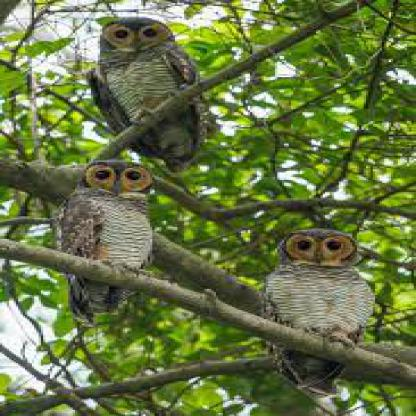owl: (24, 140, 212, 410), (61, 15, 328, 172), (243, 169, 414, 414)
